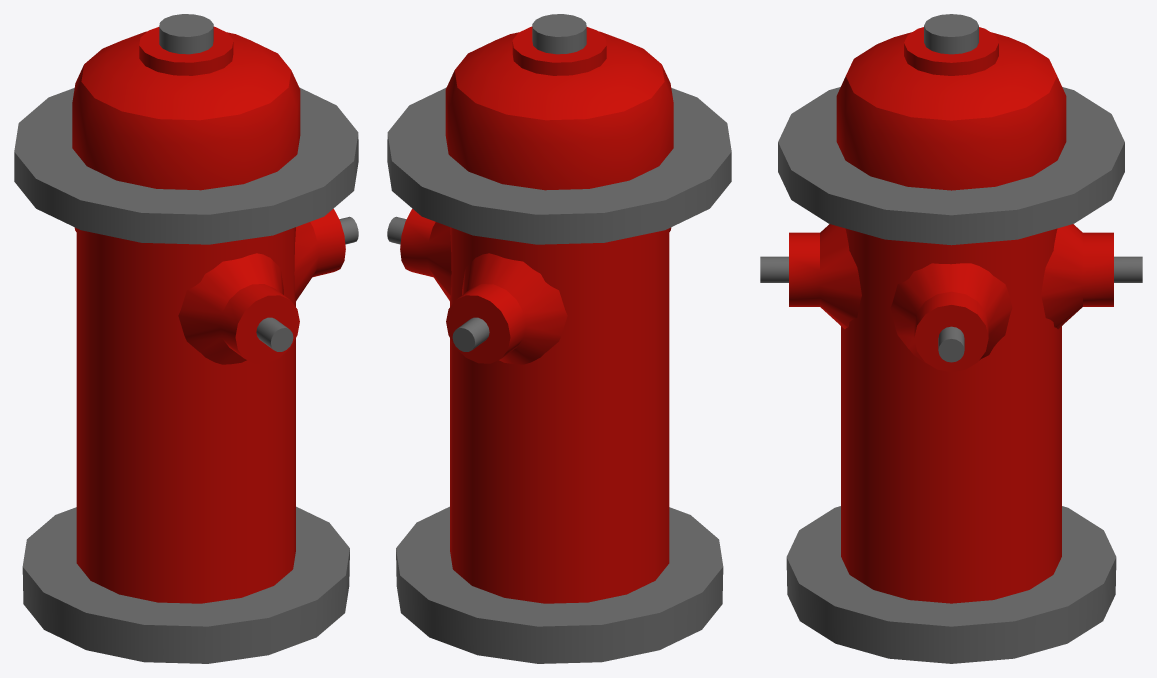
The model's file is Boca_incendios.fbx.
3 views of the same model, side by side, from view 1: azimuth 30°, elevation 25°; view 2: azimuth 150°, elevation 25°; view 3: azimuth 270°, elevation 25° (orthographic).
Parts seen in each view (by area): view 1: Cylinder; view 2: Cylinder; view 3: Cylinder.
Boxes of the visible parts, x1,y1,x2,y2 form: Cylinder: [14, 14, 358, 663]; Cylinder: [387, 14, 731, 663]; Cylinder: [760, 14, 1142, 663].
Bounding box in the file's own units: 671 × 1154 × 703.
